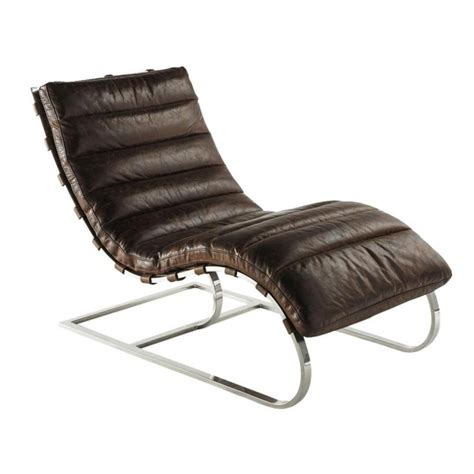cuero: (30, 64, 455, 341)
